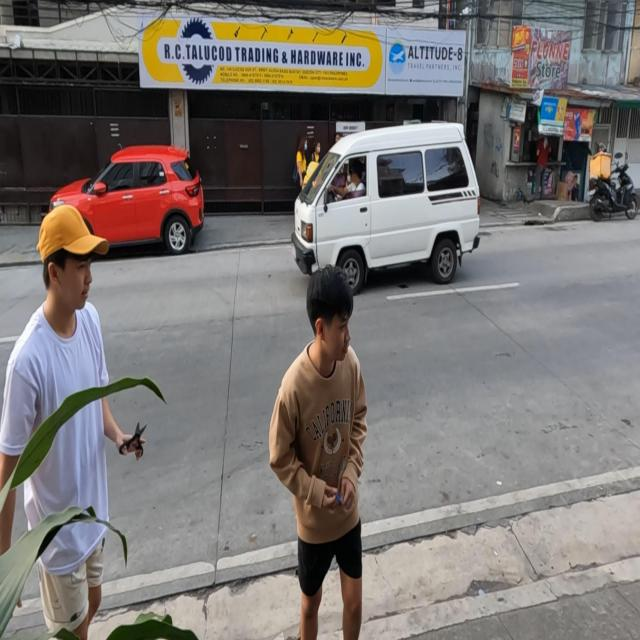scissor: (118, 418, 147, 460)
